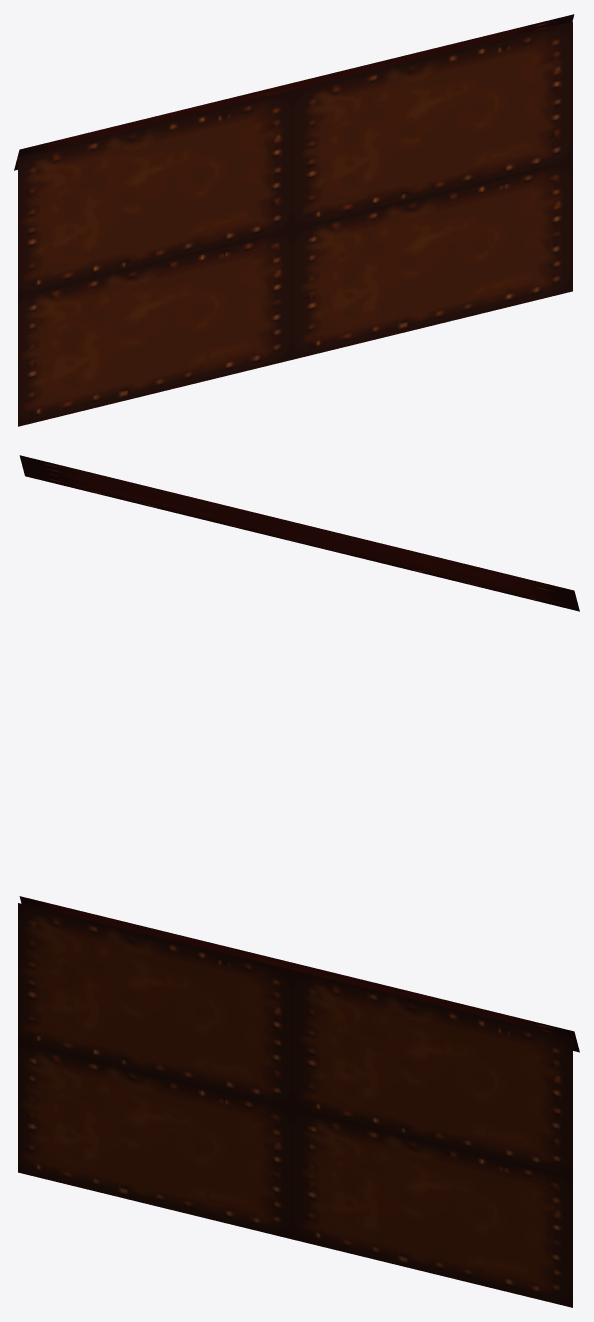
File: Zaun_RostigKlein_912.glb
3 views of the same model, one above another, from view 1: azimuth 30°, elevation 25°; view 2: azimuth 150°, elevation 25°; view 3: azimuth 330°, elevation 25° (orthographic).
Visible parts, largest first — view 1: pPlaneShape183, pPlaneShape184; view 2: pPlaneShape184; view 3: pPlaneShape183, pPlaneShape184.
Part boxes in pixels (x1,y1,x2,y2): pPlaneShape183: (18,22,572,426); pPlaneShape184: (14,14,574,170); pPlaneShape184: (19,455,579,611); pPlaneShape183: (18,903,572,1307); pPlaneShape184: (19,896,579,1052).
Bounding box in the file's own units: 0.5011 × 0.2382 × 0.0172.
2 materials, 2 textured.
